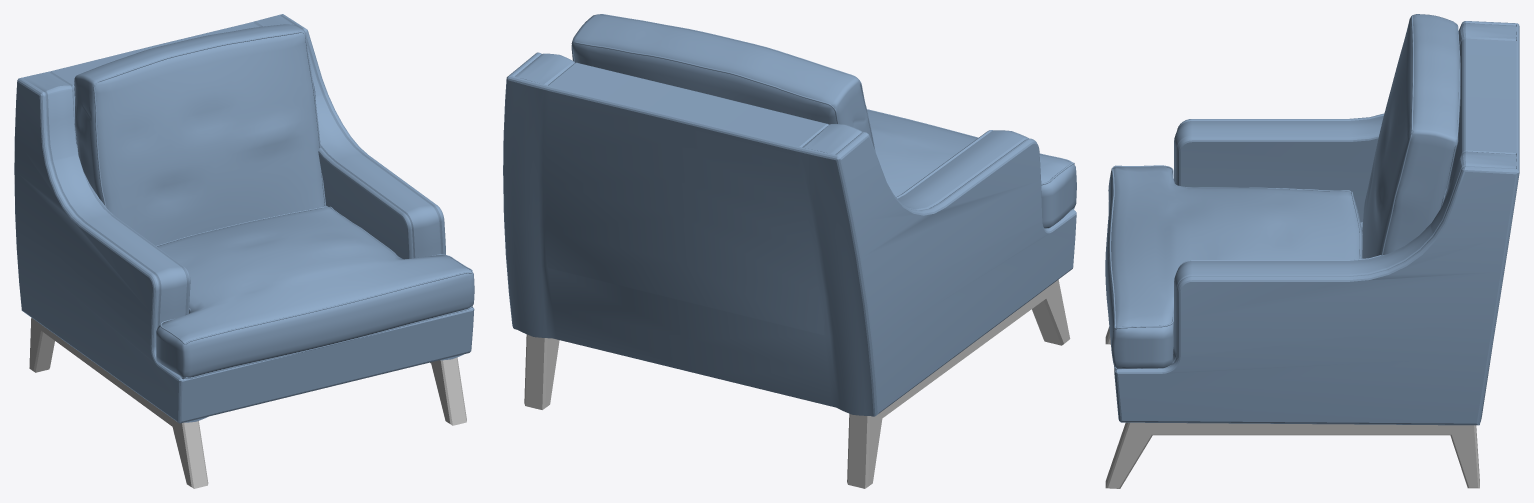
File: chair_07-v2.glb
3 views of the same model, side by side, from view 1: azimuth 30°, elevation 25°; view 2: azimuth 150°, elevation 25°; view 3: azimuth 270°, elevation 25° (orthographic). The views are drawn at different scales.
Visible parts, largest first — view 1: buffer-0-mesh-0_1_1, buffer-0-mesh-0_0; view 2: buffer-0-mesh-0_1_1, buffer-0-mesh-0_0; view 3: buffer-0-mesh-0_1_1, buffer-0-mesh-0_0.
Boxes of the visible parts, bbox=[...] form: buffer-0-mesh-0_1_1: bbox=[14, 14, 474, 423]; buffer-0-mesh-0_0: bbox=[29, 318, 466, 488]; buffer-0-mesh-0_1_1: bbox=[503, 14, 1076, 416]; buffer-0-mesh-0_0: bbox=[524, 279, 1070, 488]; buffer-0-mesh-0_1_1: bbox=[1105, 14, 1519, 425]; buffer-0-mesh-0_0: bbox=[1105, 327, 1479, 488].
Bounding box in the file's own units: 0.8178 × 0.8074 × 0.8617.
